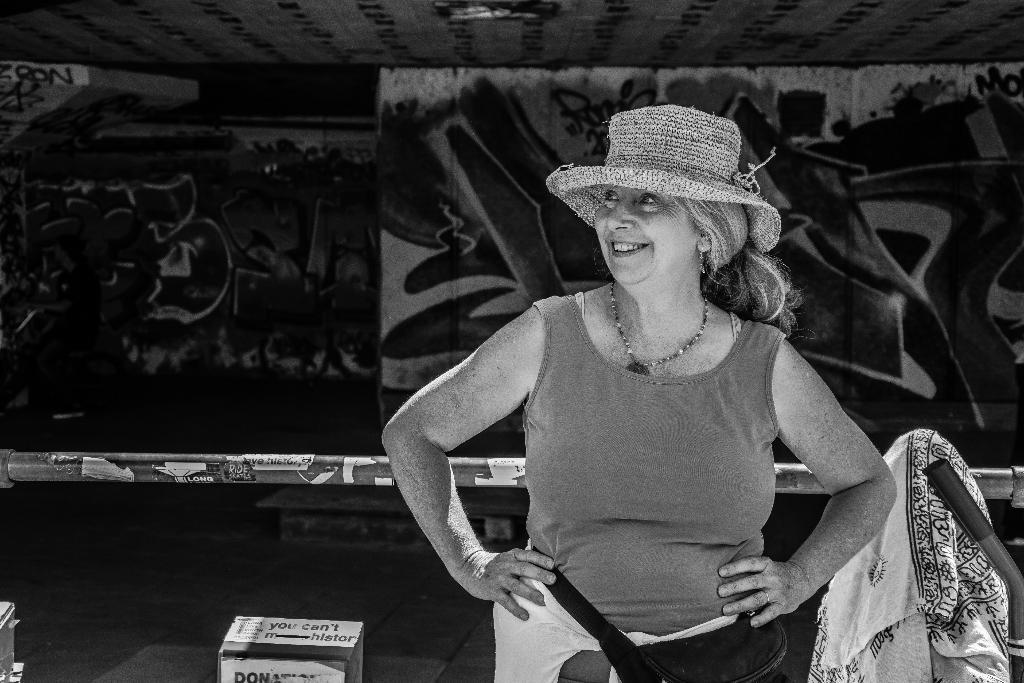Hat: (546, 103, 778, 253)
